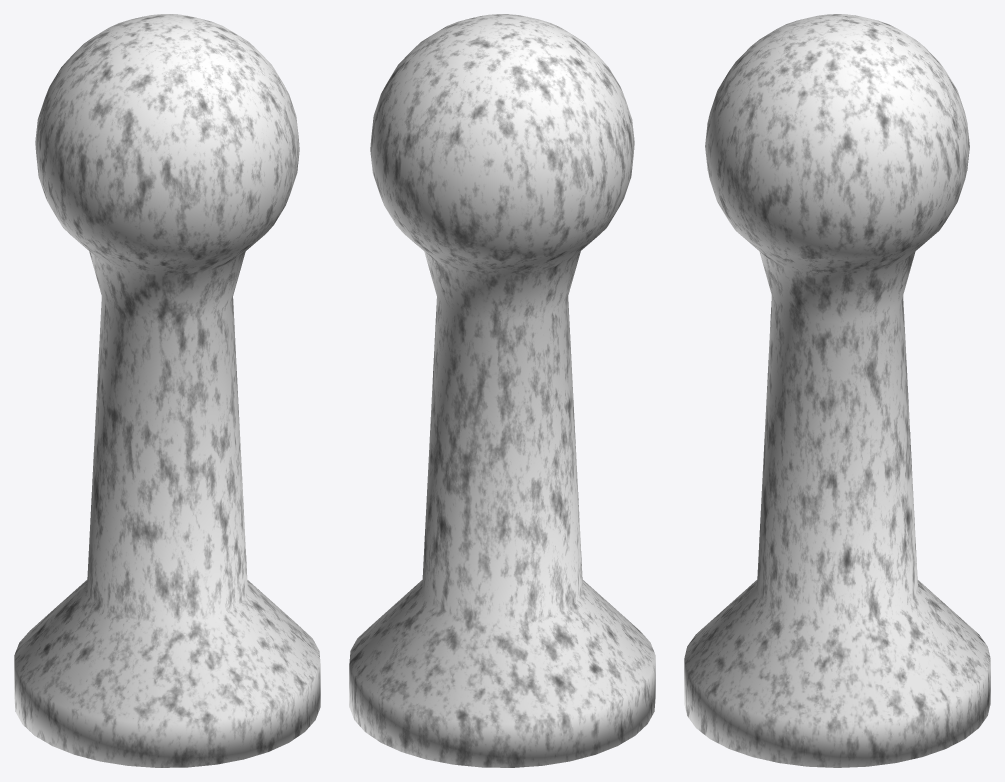
Rendered from Pawn.dae.
3 views of the same model, side by side, from view 1: azimuth 30°, elevation 25°; view 2: azimuth 150°, elevation 25°; view 3: azimuth 270°, elevation 25° (orthographic).
Parts seen in each view (by area): view 1: Cylinder; view 2: Cylinder; view 3: Cylinder.
Part boxes in pixels (x1=…): Cylinder: x1=14, y1=14, x2=320, y2=767; Cylinder: x1=349, y1=14, x2=655, y2=767; Cylinder: x1=684, y1=14, x2=990, y2=767.
Bounding box in the file's own units: 3.81 × 3.81 × 9.27.
1 material, 1 textured.
